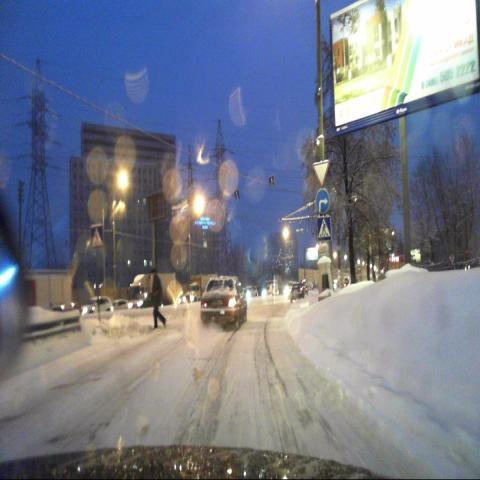4_1_2: (315, 187, 330, 215)
